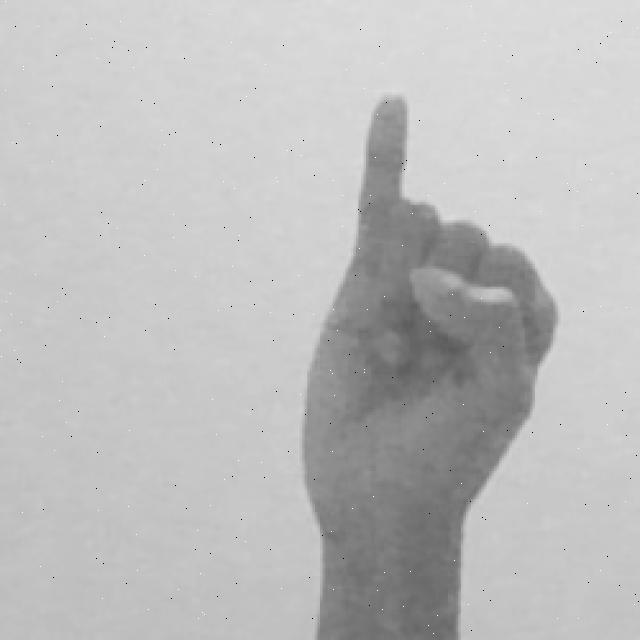I: (305, 91, 562, 640)
